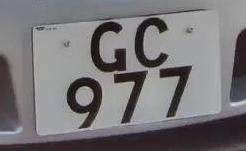7: (107, 65, 159, 127), (149, 61, 197, 119)
9: (55, 70, 114, 130)
C: (125, 8, 182, 73)
G: (85, 12, 135, 79)
